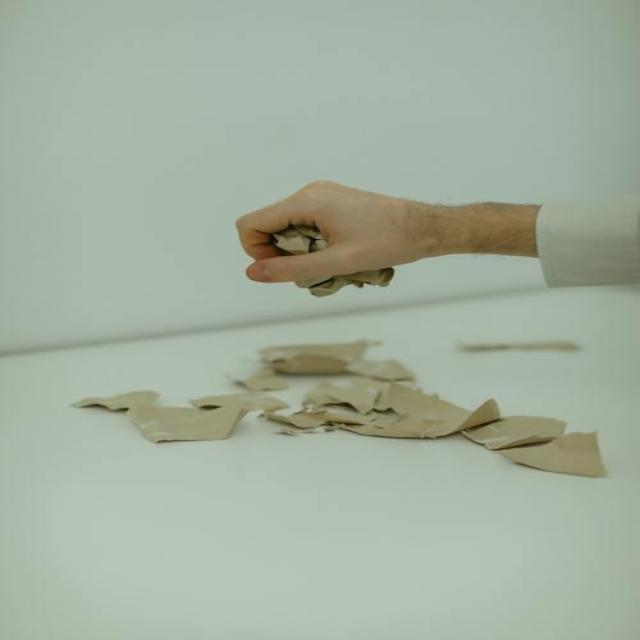paper: (294, 380, 614, 489), (81, 375, 261, 444), (264, 224, 394, 302)
